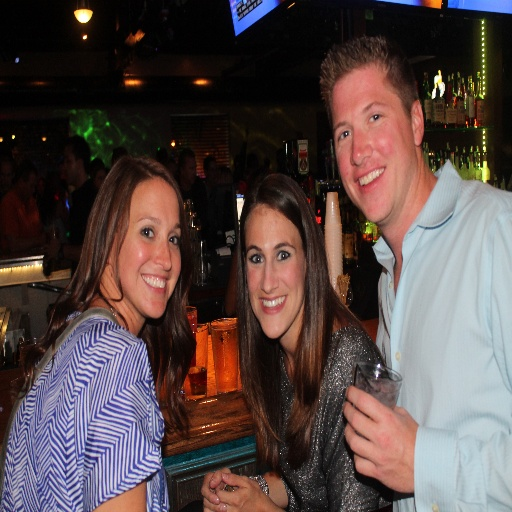hand: (346, 389, 424, 489), (200, 466, 253, 511), (214, 472, 274, 511)
